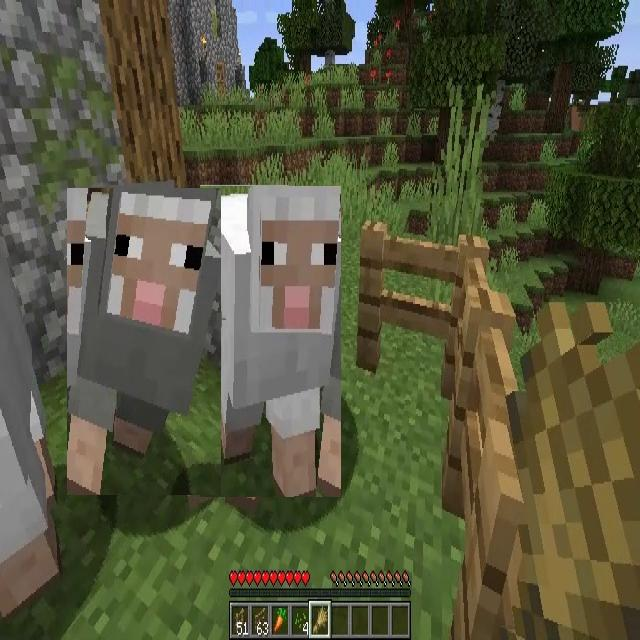sheep: (67, 188, 221, 495), (200, 186, 341, 497)
